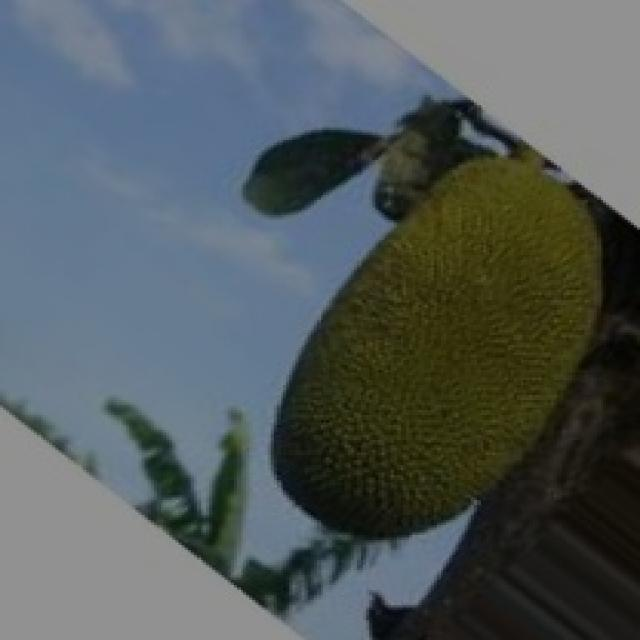Fruit: (243, 160, 637, 570)
